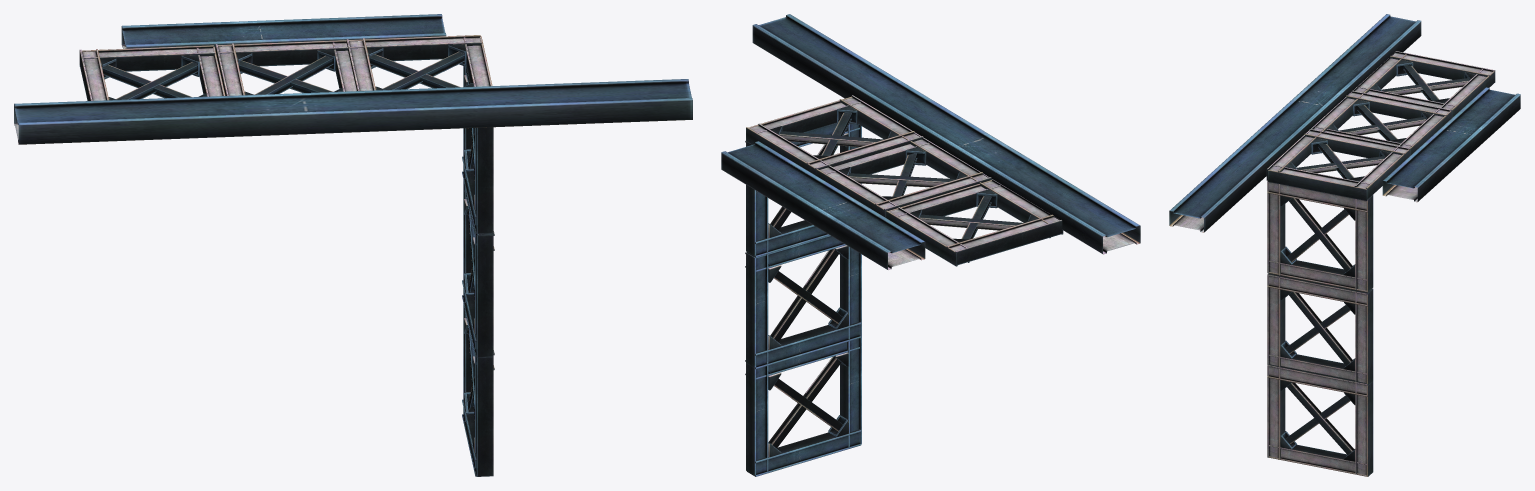
File: beams_38.fbx
3 views of the same model, side by side, from view 1: azimuth 30°, elevation 25°; view 2: azimuth 150°, elevation 25°; view 3: azimuth 270°, elevation 25° (orthographic). The views are drawn at different scales.
Visible parts, largest first — view 1: Object006__2_; view 2: Object006__2_; view 3: Object006__2_.
Boxes of the visible parts, x1,y1,x2,y2 form: Object006__2_: (14, 14, 692, 476); Object006__2_: (721, 14, 1140, 476); Object006__2_: (1169, 14, 1520, 476).
Size of the model in its own units: 8.69 by 5.91 by 6.34.
1 material, 1 textured.
